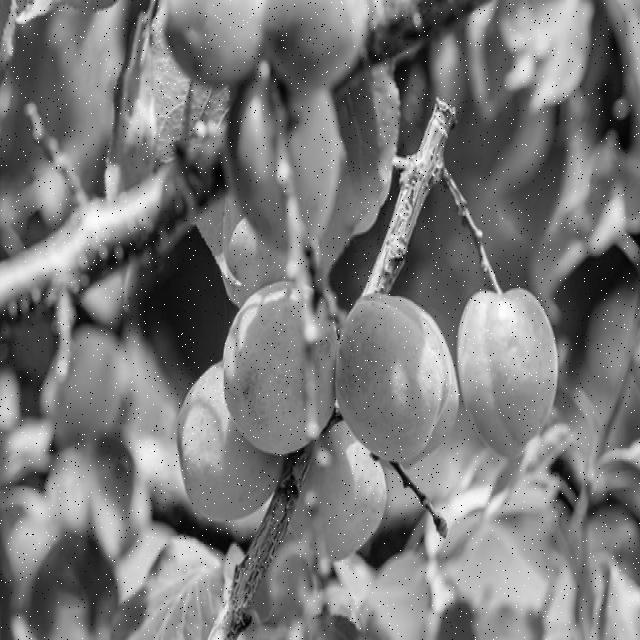Kayisi: (335, 295, 457, 463), (457, 286, 559, 461), (292, 425, 387, 560)
